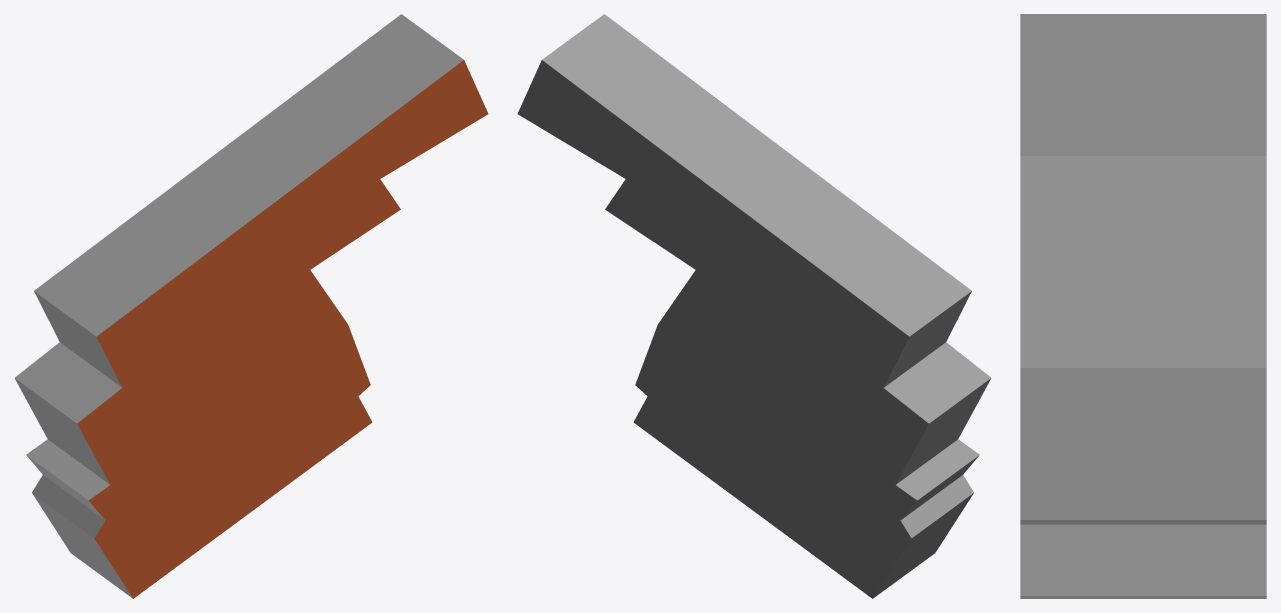
File: construction_6497_assumed_A_Casa_h6m.obj
The picture shows the model from 3 angles, left to right: view 1: azimuth 30°, elevation 25°; view 2: azimuth 150°, elevation 25°; view 3: azimuth 270°, elevation 25°; orthographic projection. The views are drawn at different scales.
Parts seen in each view (by area): view 1: construction_6497_assumed_A_Casa; view 2: construction_6497_assumed_A_Casa; view 3: construction_6497_assumed_A_Casa.
Part boxes in pixels (left/top/right/bottom): construction_6497_assumed_A_Casa: left=14, top=14, right=488, bottom=598; construction_6497_assumed_A_Casa: left=517, top=14, right=991, bottom=598; construction_6497_assumed_A_Casa: left=1020, top=14, right=1266, bottom=598.
Bounding box in the file's own units: 22.77 × 24.24 × 6.
